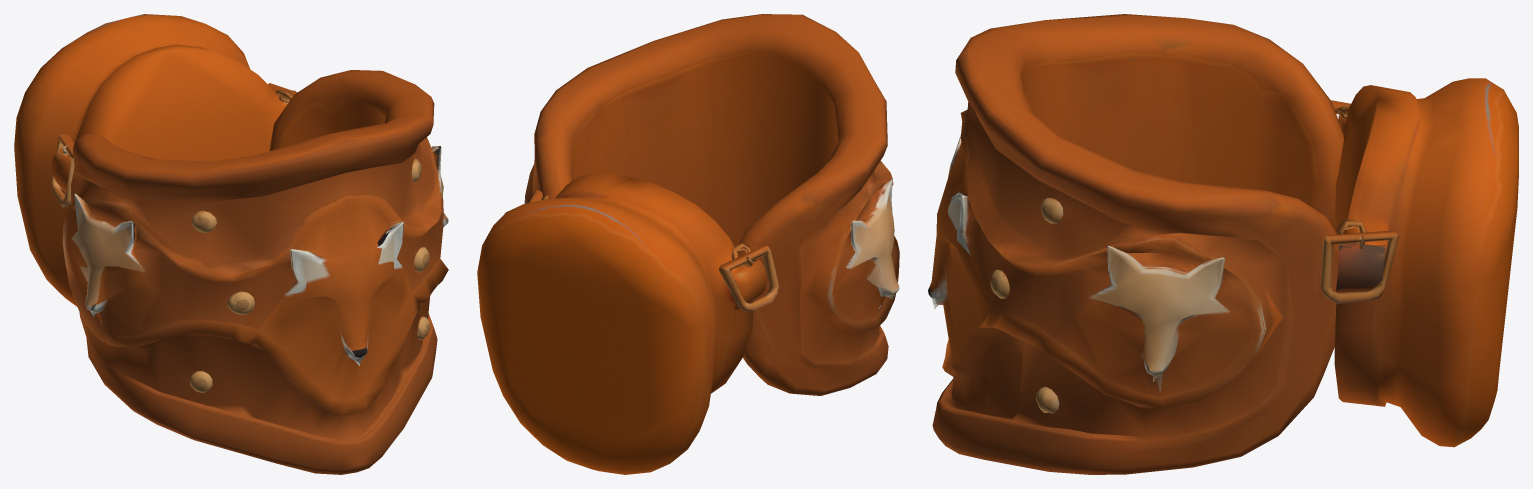
File: foxfire-pack-bracer_refine.glb
3 views of the same model, side by side, from view 1: azimuth 30°, elevation 25°; view 2: azimuth 150°, elevation 25°; view 3: azimuth 270°, elevation 25° (orthographic). The views are drawn at different scales.
Bounding box in the file's own units: 0.7964 × 0.6904 × 0.9531.
Materials: 1 (1 with a texture image).
